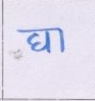aa_matra: (58, 29, 65, 50)
